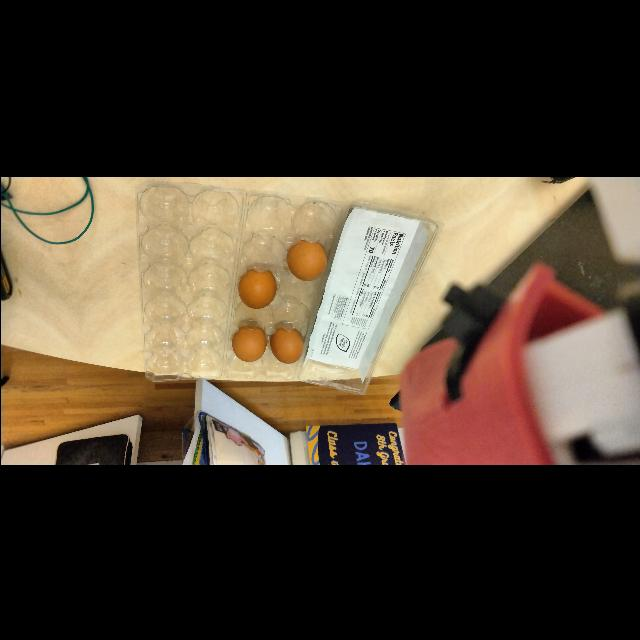Egg: (231, 259, 281, 315), (282, 232, 330, 284), (268, 320, 306, 368), (230, 320, 268, 368)
